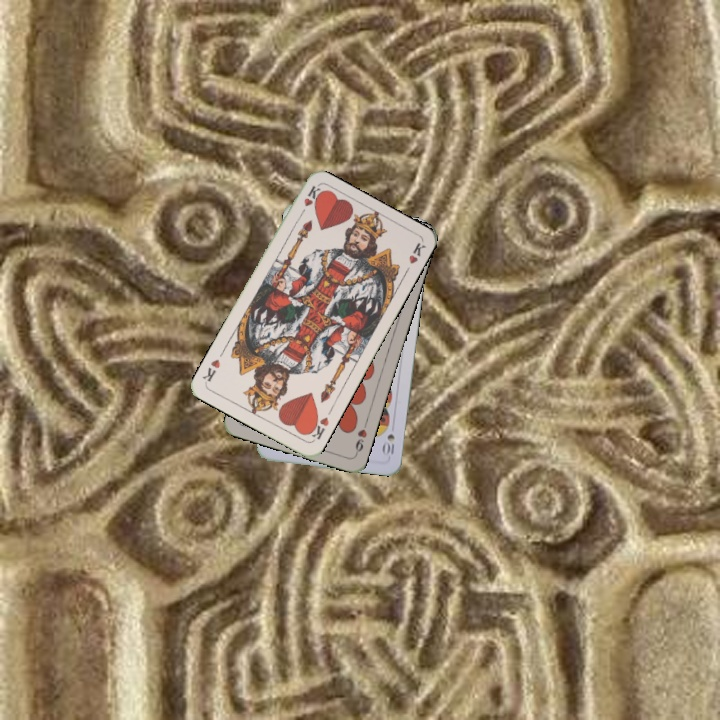H9: (351, 418, 370, 457)
HK: (295, 182, 323, 220), (304, 412, 331, 443)
S10: (380, 429, 397, 457)
